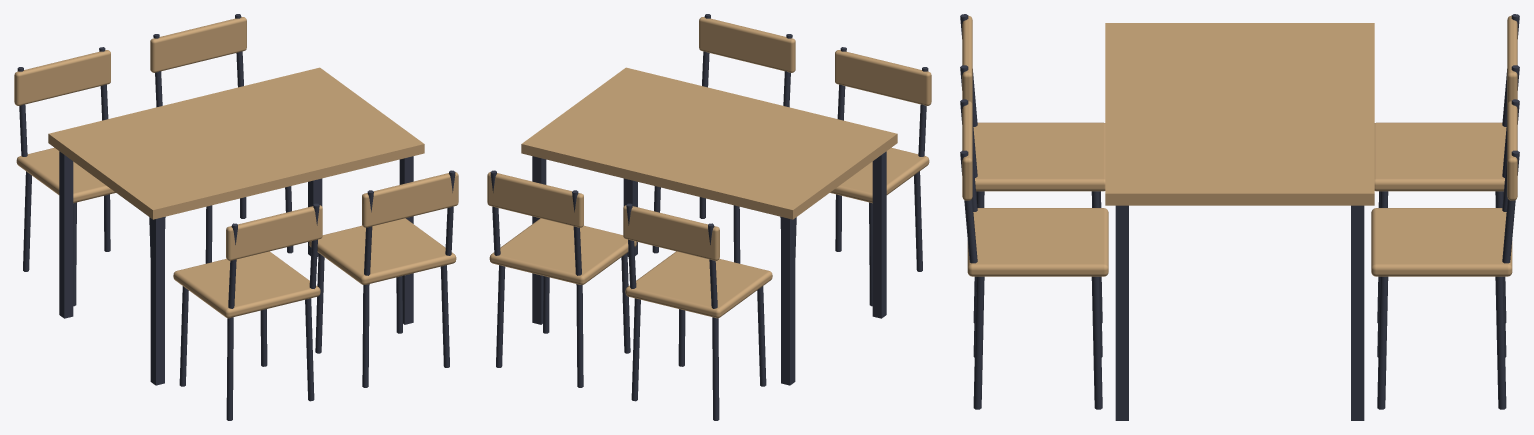
File: hsp-011.glb
The picture shows the model from 3 angles, left to right: view 1: azimuth 30°, elevation 25°; view 2: azimuth 150°, elevation 25°; view 3: azimuth 270°, elevation 25°; orthographic projection. The views are drawn at different scales.
Visible parts, largest first — view 1: oak, dark_steel; view 2: oak, dark_steel; view 3: oak, dark_steel.
Boxes of the visible parts, bbox=[...] form: oak: bbox=[14, 17, 458, 318]; dark_steel: bbox=[17, 14, 455, 420]; oak: bbox=[487, 17, 931, 318]; dark_steel: bbox=[490, 14, 928, 420]; oak: bbox=[962, 15, 1517, 276]; dark_steel: bbox=[960, 14, 1519, 420].
Size of the model in its own units: 1.2 by 0.8413 by 1.66.
